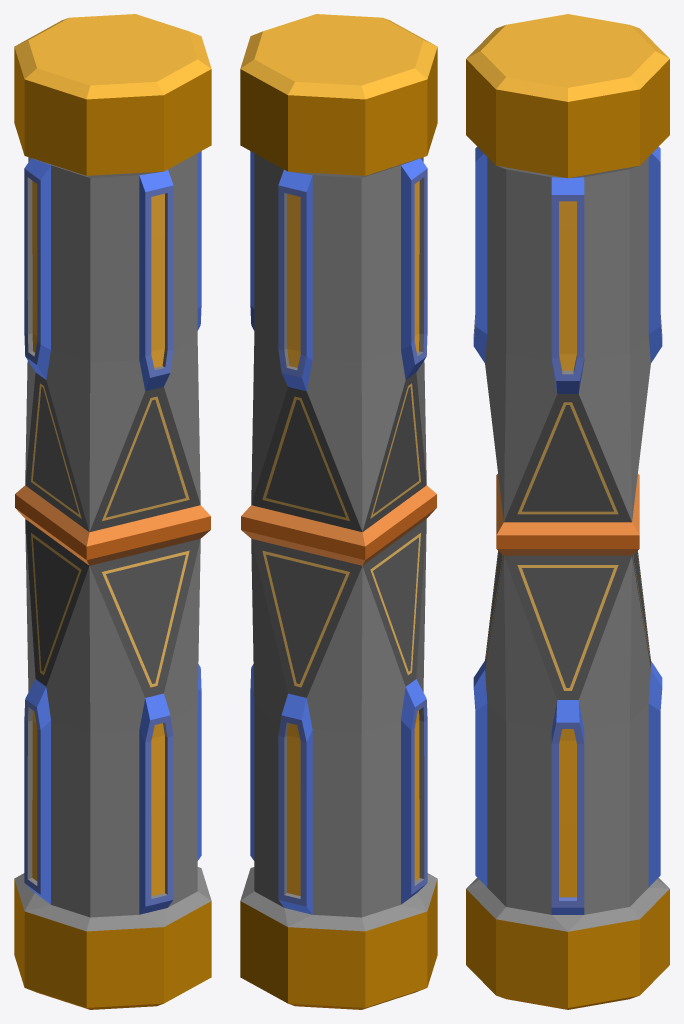
The model's file is Rising_Pillar_SciFi.glb.
The picture shows the model from 3 angles, left to right: view 1: azimuth 30°, elevation 25°; view 2: azimuth 150°, elevation 25°; view 3: azimuth 270°, elevation 25°; orthographic projection.
Parts seen in each view (by area): view 1: SciFiColumn; view 2: SciFiColumn; view 3: SciFiColumn.
Part boxes in pixels (x1,y1,x2,y2): SciFiColumn: (14, 14, 211, 1009); SciFiColumn: (240, 14, 437, 1009); SciFiColumn: (466, 14, 669, 1009).
Size of what is drawn, in the model's own units: 1.37 by 6.84 by 1.37.
1 material, 1 textured.
